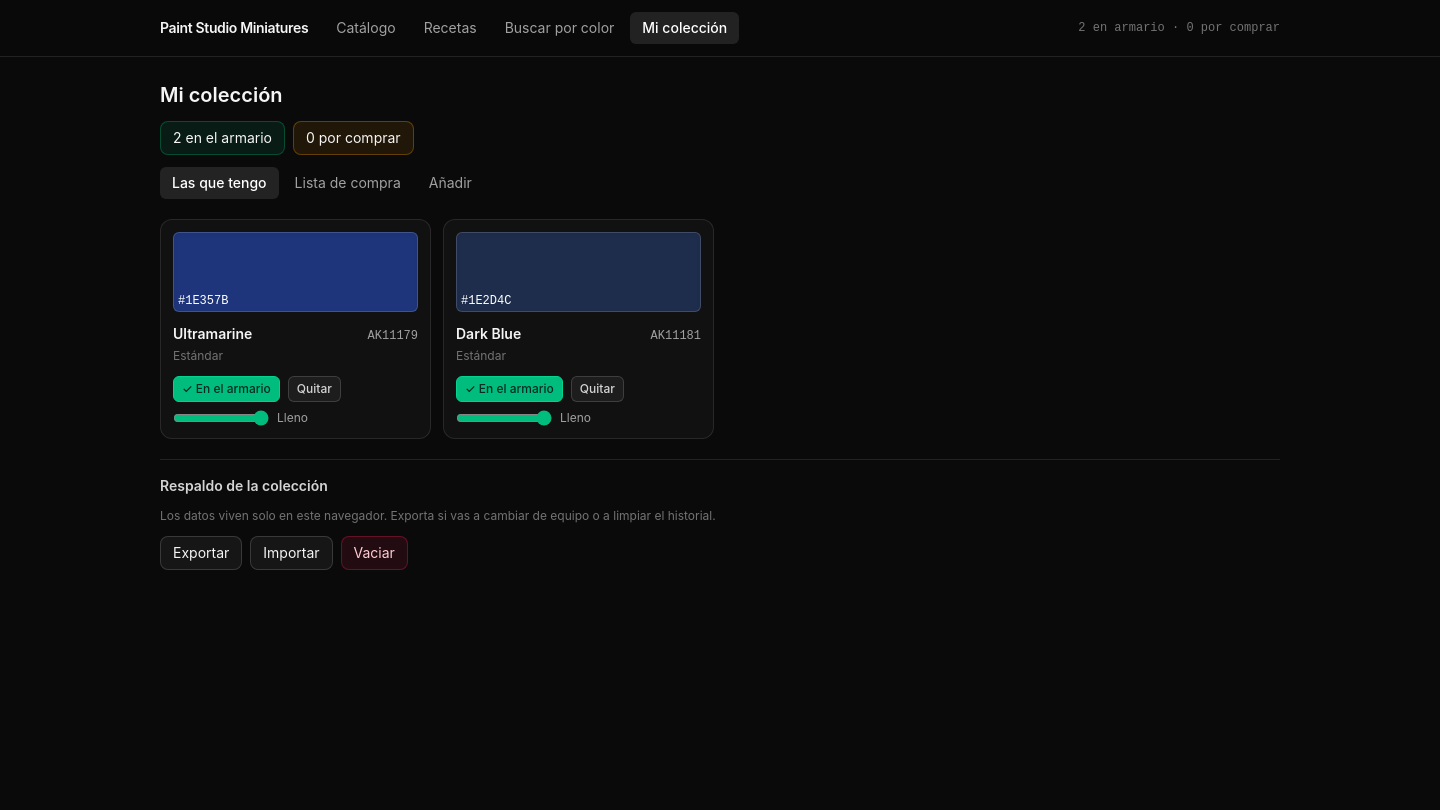
Test: registros borrados › vaciar la colección y recargar deja el armario vacío y las entradas borradas
Step 1. Click the button "Vaciar" → (374, 553), box top-left (341, 536), bottom-right (408, 570)
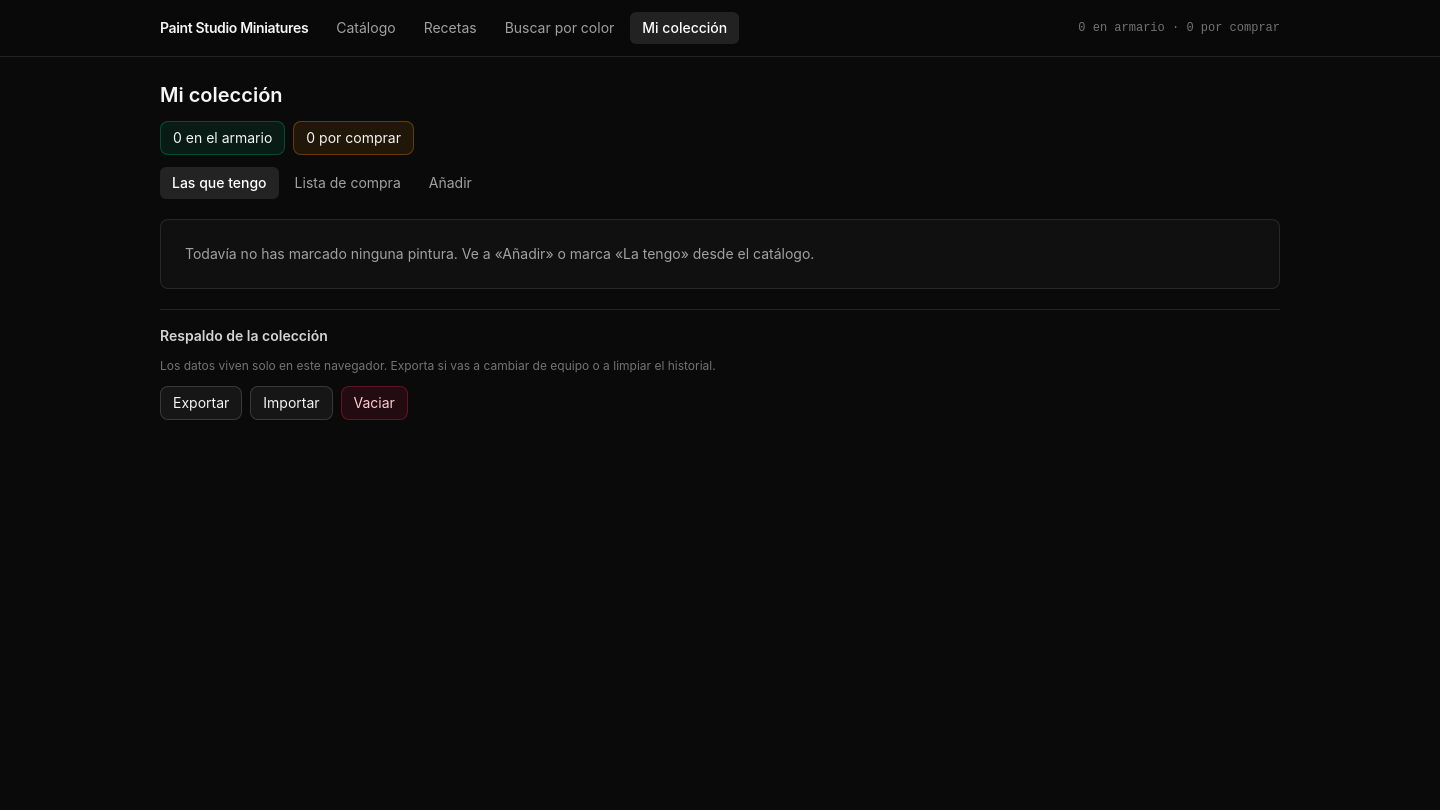
Expected: the text "0 en el armario" is shown, top-left (160, 121), bottom-right (285, 155)
